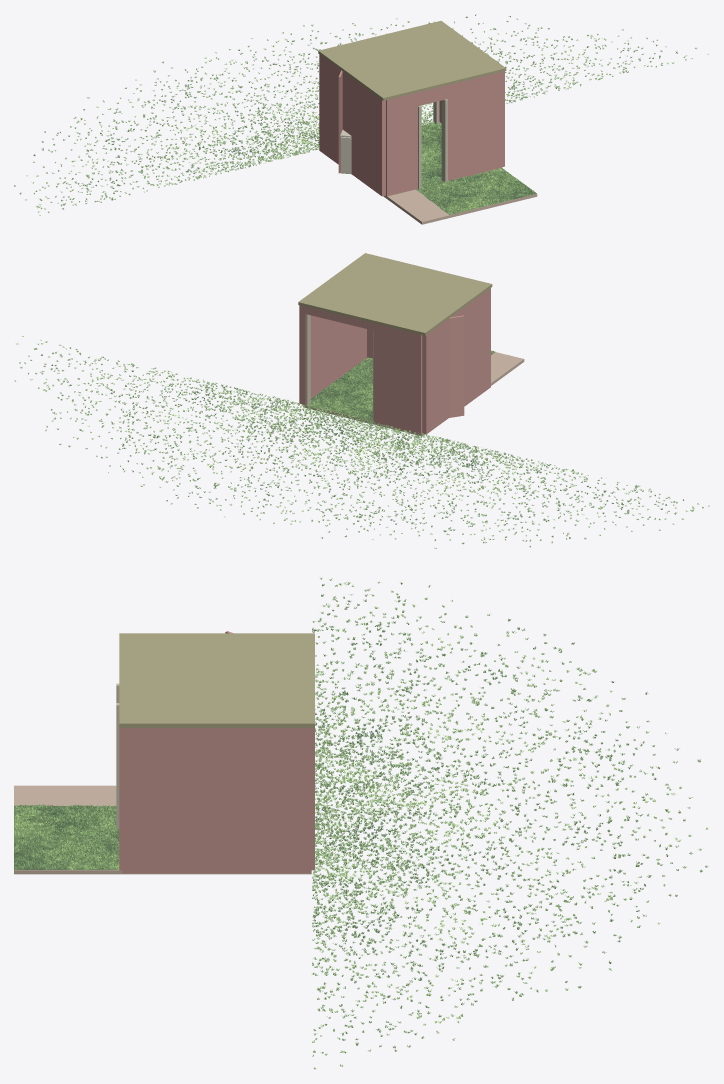
Rendered from kitchen_meadow.glb.
3 views of the same model, one above another, from view 1: azimuth 30°, elevation 25°; view 2: azimuth 150°, elevation 25°; view 3: azimuth 270°, elevation 25° (orthographic). The views are drawn at different scales.
Parts seen in each view (by area): view 1: GEO-DREAM-kitchen-grass_blades_mid, GEO-DREAM-kitchen-ceiling, GEO-DREAM-kitchen-left_wall, GEO-DREAM-kitchen-entry_wall_right, GEO-DREAM-kitchen-grass_blades_near, GEO-DREAM-kitchen-grass_interior_blockout, GEO-DREAM-kitchen-entry_wall_left, GEO-DREAM-kitchen-floor_support, GEO-DREAM-kitchen-entry_jamb_right, GEO-DREAM-kitchen-cabinet_run_backing, GEO-DREAM-kitchen-base_cabinet_near, GEO-DREAM-kitchen-entry_header (+1 smaller); view 2: GEO-DREAM-kitchen-grass_blades_mid, GEO-DREAM-kitchen-ceiling, GEO-DREAM-kitchen-left_wall, GEO-DREAM-kitchen-exterior_wall_left, GEO-DREAM-kitchen-right_wall, GEO-DREAM-kitchen-grass_interior_blockout, GEO-DREAM-kitchen-grass_blades_near, GEO-DREAM-kitchen-cabinet_run_backing, GEO-DREAM-kitchen-floor_support, GEO-DREAM-kitchen-exterior_header; view 3: GEO-DREAM-kitchen-grass_blades_mid, GEO-DREAM-kitchen-right_wall, GEO-DREAM-kitchen-ceiling, GEO-DREAM-kitchen-grass_blades_near, GEO-DREAM-kitchen-grass_interior_blockout, GEO-DREAM-kitchen-floor_support.
Part boxes in pixels (x1,y1,x2,y2): GEO-DREAM-kitchen-grass_blades_mid: (14, 14, 708, 215); GEO-DREAM-kitchen-ceiling: (318, 21, 506, 100); GEO-DREAM-kitchen-left_wall: (319, 54, 385, 196); GEO-DREAM-kitchen-entry_wall_right: (445, 72, 502, 180); GEO-DREAM-kitchen-grass_blades_near: (417, 130, 535, 214); GEO-DREAM-kitchen-grass_interior_blockout: (416, 122, 536, 214); GEO-DREAM-kitchen-entry_wall_left: (386, 92, 419, 196); GEO-DREAM-kitchen-floor_support: (383, 189, 537, 224); GEO-DREAM-kitchen-entry_jamb_right: (441, 99, 447, 182); GEO-DREAM-kitchen-cabinet_run_backing: (338, 70, 342, 173); GEO-DREAM-kitchen-base_cabinet_near: (341, 136, 351, 174); GEO-DREAM-kitchen-entry_header: (419, 86, 445, 105); GEO-DREAM-kitchen-grass_blades_mid: (14, 336, 709, 548); GEO-DREAM-kitchen-ceiling: (298, 253, 492, 335); GEO-DREAM-kitchen-left_wall: (422, 288, 490, 434); GEO-DREAM-kitchen-exterior_wall_left: (373, 323, 422, 434); GEO-DREAM-kitchen-right_wall: (299, 305, 366, 403); GEO-DREAM-kitchen-grass_interior_blockout: (309, 351, 495, 421); GEO-DREAM-kitchen-grass_blades_near: (317, 350, 493, 418); GEO-DREAM-kitchen-cabinet_run_backing: (449, 315, 464, 417); GEO-DREAM-kitchen-floor_support: (303, 352, 524, 435); GEO-DREAM-kitchen-exterior_header: (305, 307, 373, 330); GEO-DREAM-kitchen-grass_blades_mid: (312, 578, 708, 1069); GEO-DREAM-kitchen-right_wall: (122, 728, 311, 873); GEO-DREAM-kitchen-ceiling: (119, 633, 314, 727); GEO-DREAM-kitchen-grass_blades_near: (14, 804, 119, 869); GEO-DREAM-kitchen-grass_interior_blockout: (14, 805, 119, 869); GEO-DREAM-kitchen-floor_support: (14, 785, 311, 874).
Size of what is drawn, in the model's own units: 20.32 by 2.96 by 12.16.
14 materials, 2 textured.
